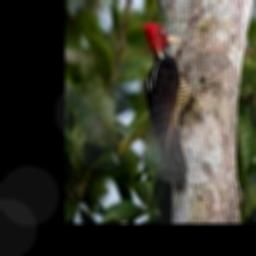Woodpecker: (143, 21, 218, 192)
